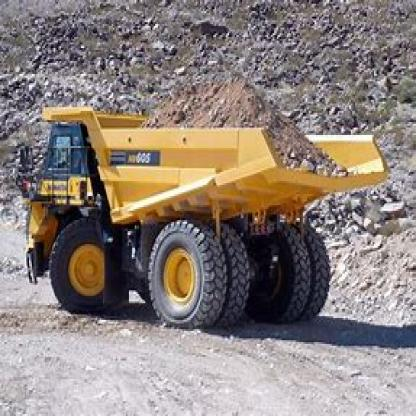dump_truck: (20, 63, 392, 346)
